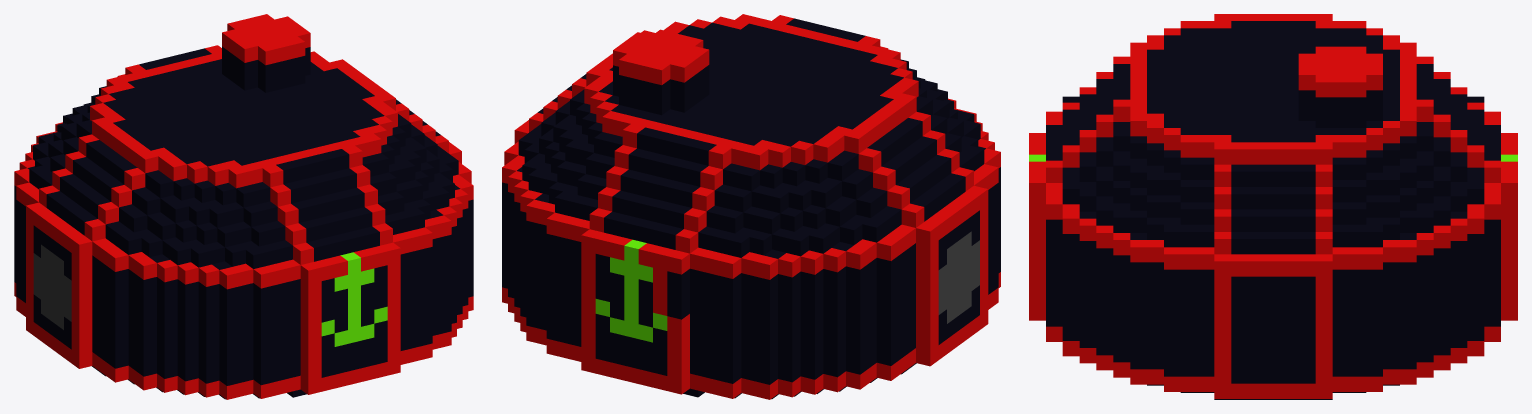
The model's file is NeonLightTankEnemy-2.obj.
The picture shows the model from 3 angles, left to right: view 1: azimuth 30°, elevation 25°; view 2: azimuth 150°, elevation 25°; view 3: azimuth 270°, elevation 25°; orthographic projection. The views are drawn at different scales.
Size of the model in its own units: 2.9 by 1.8 by 2.9.
Materials: 1 (1 with a texture image).
